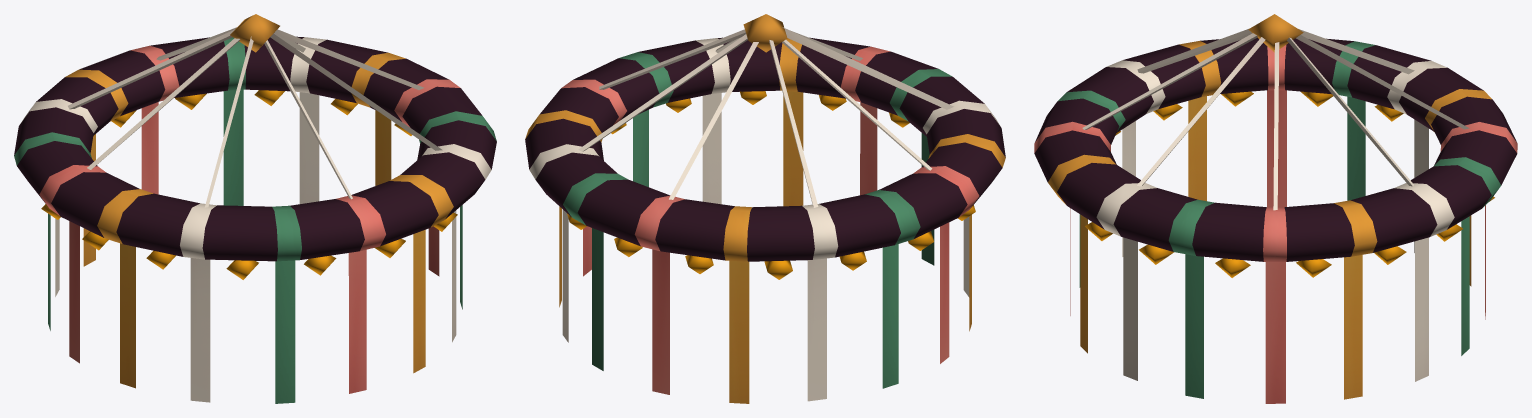
The model's file is Lamp_Art.fbx.
3 views of the same model, side by side, from view 1: azimuth 30°, elevation 25°; view 2: azimuth 150°, elevation 25°; view 3: azimuth 270°, elevation 25° (orthographic).
Parts seen in each view (by area): view 1: Oktoberfest_Lamp; view 2: Oktoberfest_Lamp; view 3: Oktoberfest_Lamp.
Boxes of the visible parts, <box> form: Oktoberfest_Lamp: <box>14,14,496,403</box>; Oktoberfest_Lamp: <box>525,14,1005,403</box>; Oktoberfest_Lamp: <box>1034,14,1517,403</box>.
Size of the model in its own units: 720 by 498 by 720.
3 materials, 3 textured.
